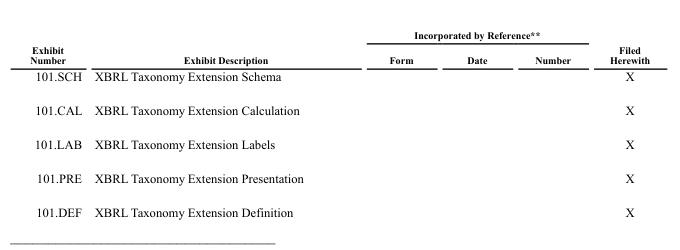table: (29, 28, 649, 219)
table column: (87, 28, 345, 219), (345, 28, 439, 219), (510, 28, 589, 219), (439, 28, 510, 219), (589, 28, 649, 219), (29, 28, 87, 219)
table column header: (29, 28, 649, 66)
table row: (29, 160, 649, 195), (29, 92, 649, 126), (29, 126, 649, 160), (29, 66, 649, 92), (29, 195, 649, 219), (29, 46, 649, 66), (29, 28, 649, 46)
table spanning cell: (87, 28, 345, 66), (345, 28, 589, 46), (589, 28, 649, 66), (29, 28, 87, 66)
